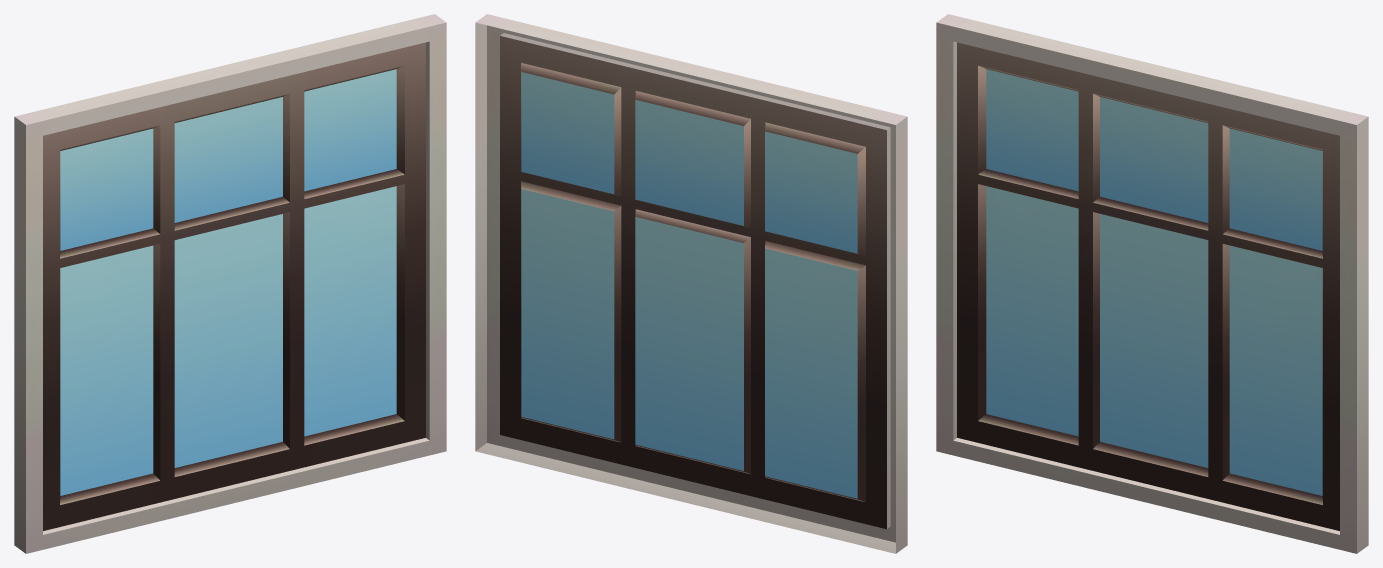
File: Window05.fbx
The picture shows the model from 3 angles, left to right: view 1: azimuth 30°, elevation 25°; view 2: azimuth 150°, elevation 25°; view 3: azimuth 330°, elevation 25°; orthographic projection.
Parts seen in each view (by area): view 1: Window05; view 2: Window05; view 3: Window05.
Part boxes in pixels (x1,y1,x2,y2): Window05: (14,14,446,553); Window05: (475,14,907,553); Window05: (936,14,1368,553).
Bounding box in the file's own units: 0.7142 × 0.6962 × 0.0342.
